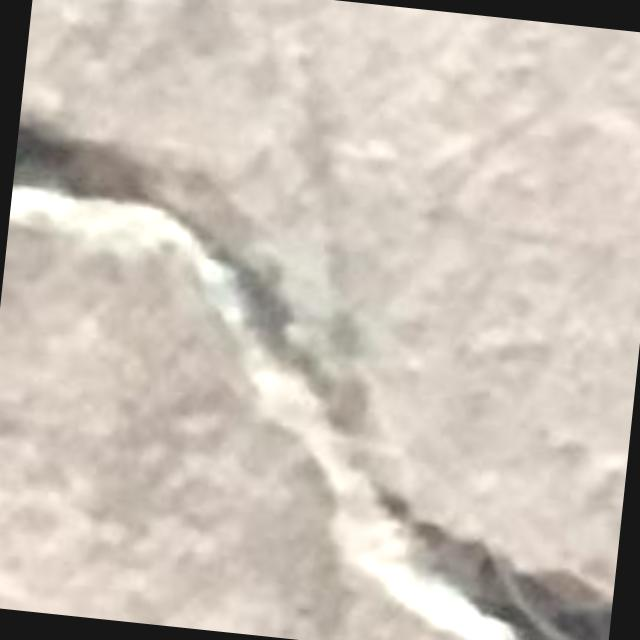crack: (172, 213, 366, 432)
